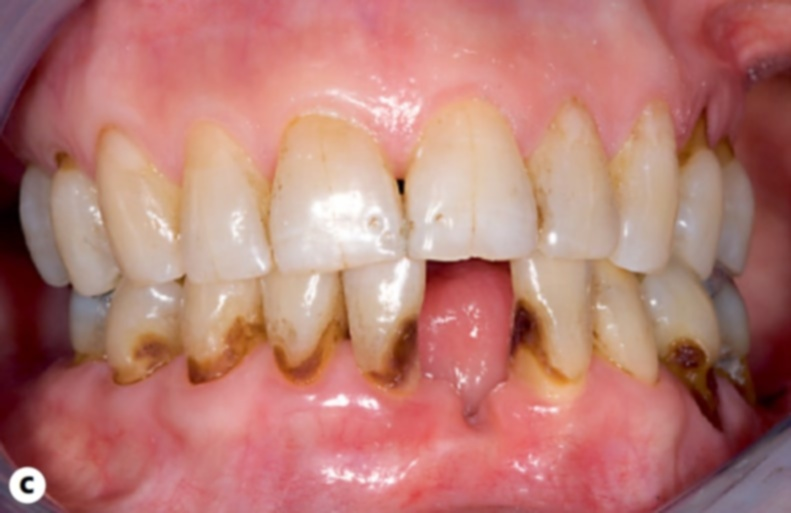karies: (272, 315, 350, 394), (185, 313, 263, 390), (659, 337, 717, 409), (509, 299, 554, 379), (112, 335, 171, 388), (386, 314, 423, 385), (681, 98, 720, 165), (723, 344, 763, 396), (716, 129, 740, 165), (51, 148, 75, 174)
